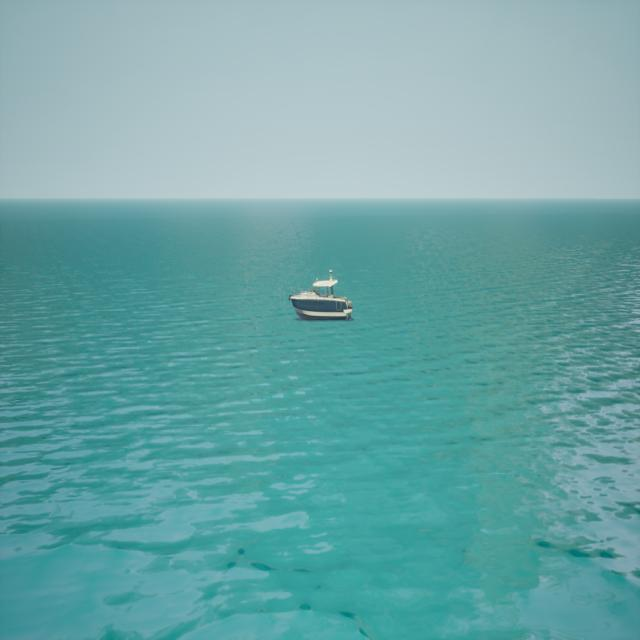ship: (288, 268, 354, 320)
